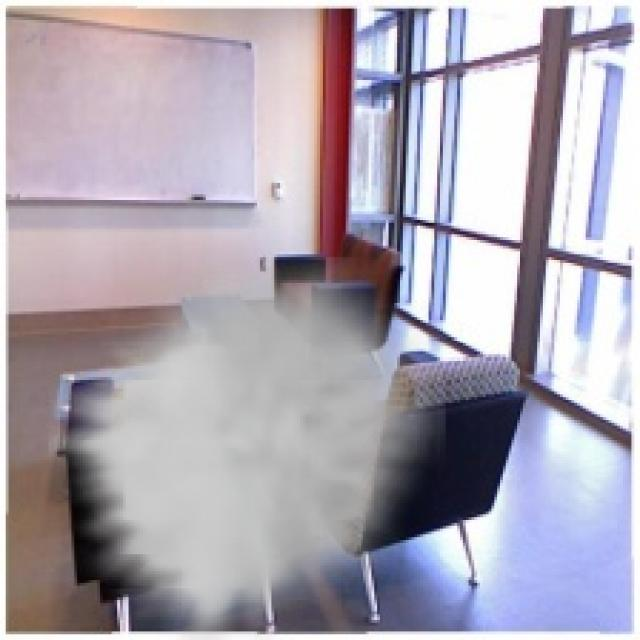smoke: (49, 257, 448, 637)
